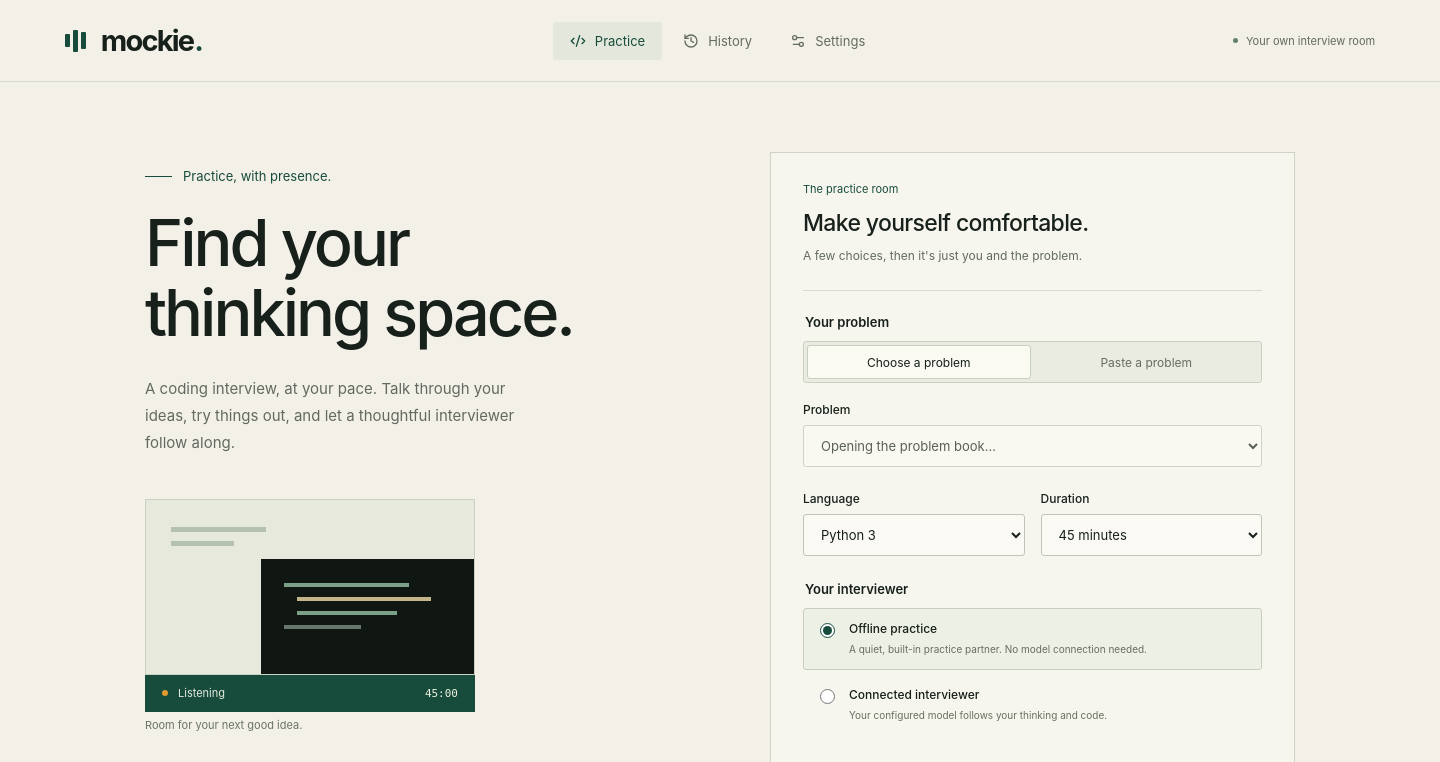
Scenario: evidence-based scorecard › identifies offline scorecards so a local summary is not mistaken for a model grade
The width and height of the screenshot is (1440, 762).
Click the button "History" at (718, 40), box [666,22,769,60]
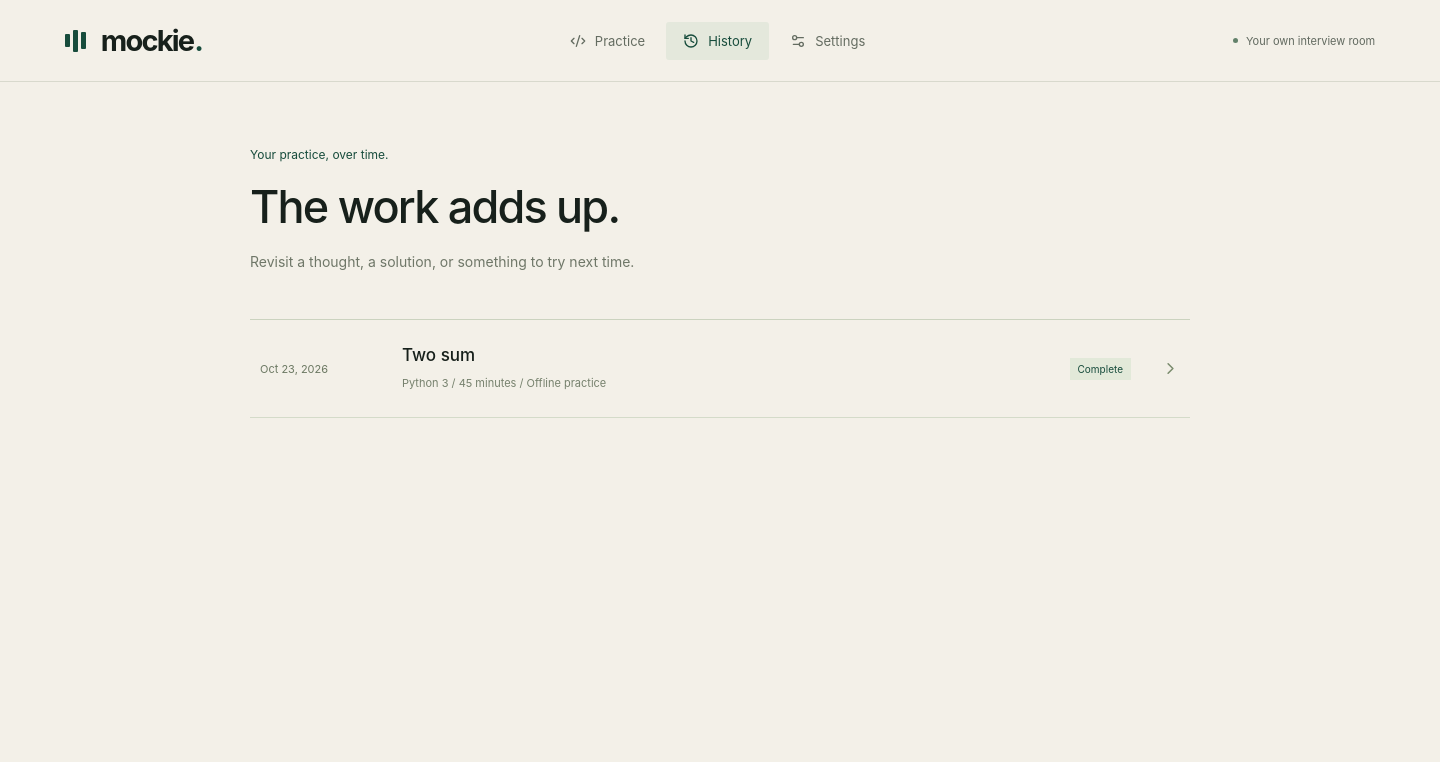
Click the button with aria-label "Open Two sum" at (294, 369), box [250,320,1190,418]
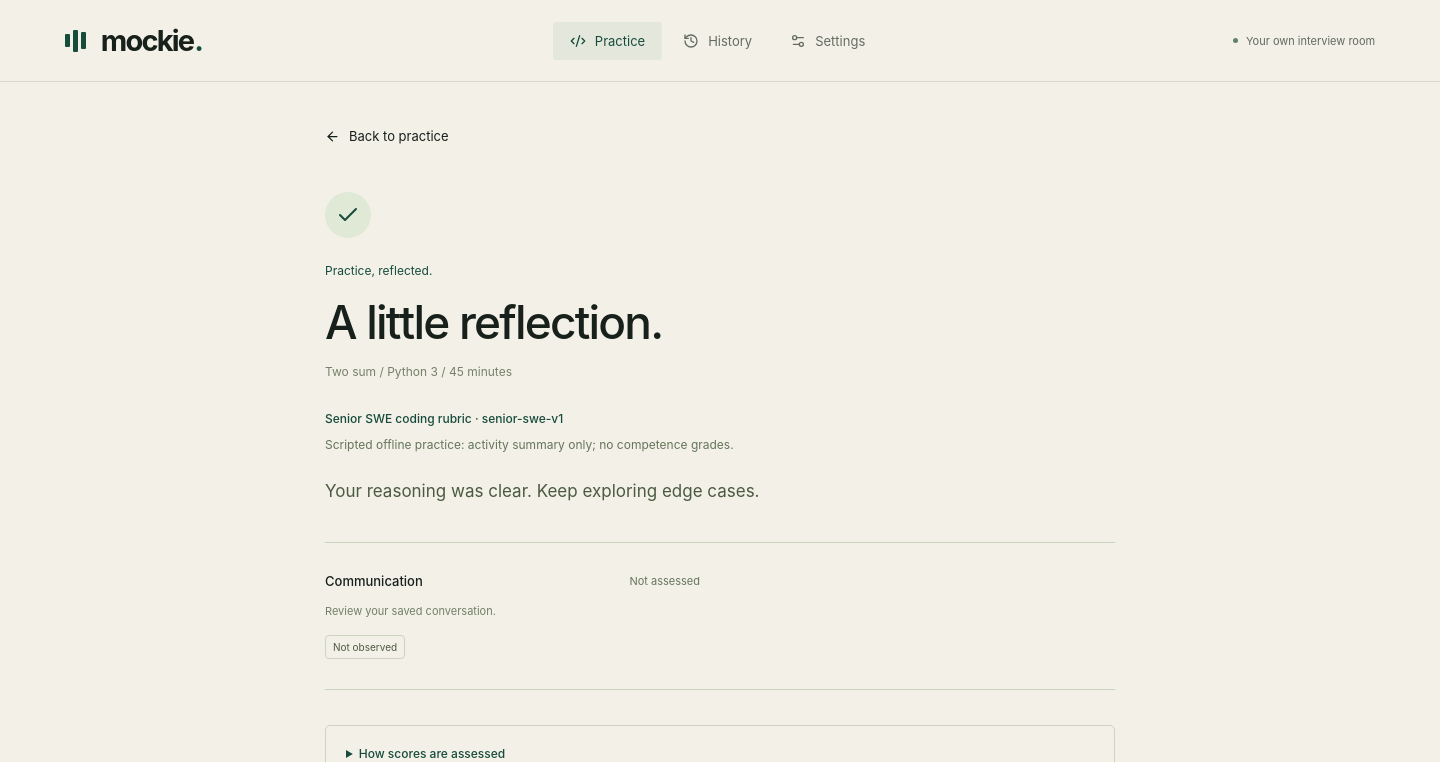
Now the heading "A little reflection." is shown, box [325,294,662,350]
Now the text "Not assessed" is shown, box [630,574,700,588]
